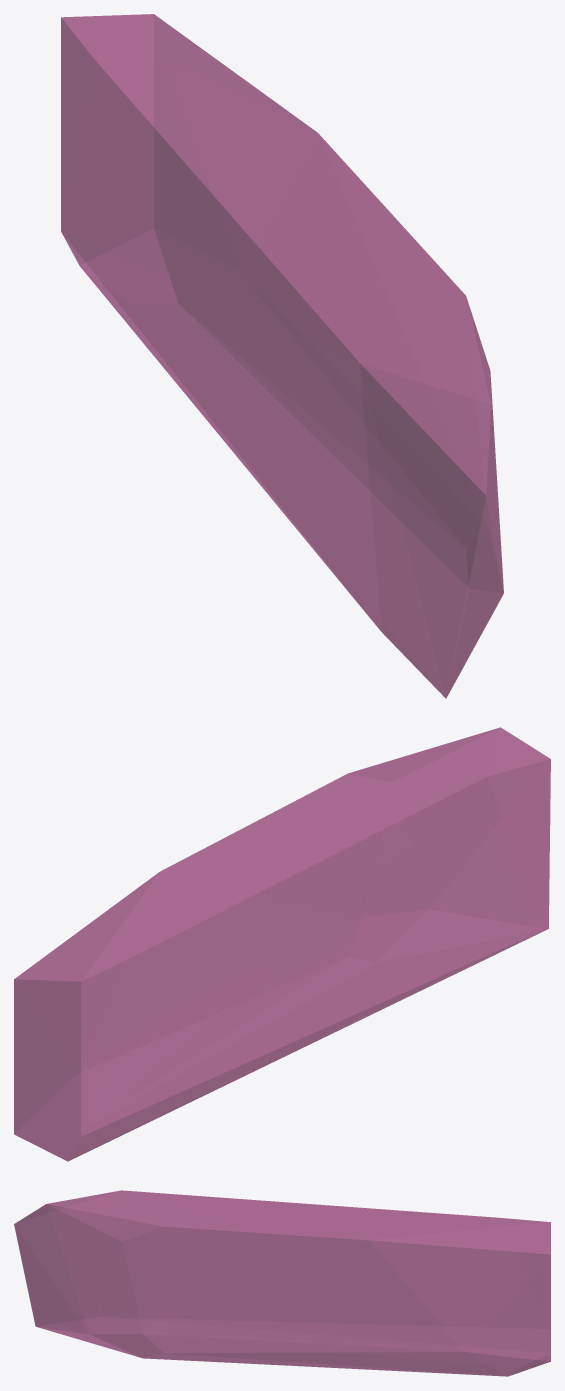
The picture shows the model from 3 angles, top to bottom: view 1: azimuth 30°, elevation 25°; view 2: azimuth 150°, elevation 25°; view 3: azimuth 270°, elevation 25°; orthographic projection. The views are drawn at different scales.
Parts seen in each view (by area): view 1: Shape_IndexedFaceSet.007_Shape_IndexedFaceSet.15620; view 2: Shape_IndexedFaceSet.007_Shape_IndexedFaceSet.15620; view 3: Shape_IndexedFaceSet.007_Shape_IndexedFaceSet.15620.
Boxes of the visible parts, left/top/right/bottom form: Shape_IndexedFaceSet.007_Shape_IndexedFaceSet.15620: left=61, top=14, right=503, bottom=698; Shape_IndexedFaceSet.007_Shape_IndexedFaceSet.15620: left=14, top=727, right=550, bottom=1161; Shape_IndexedFaceSet.007_Shape_IndexedFaceSet.15620: left=14, top=1190, right=550, bottom=1376.
Bounding box in the file's own units: 0.1085 × 0.1266 × 0.4522.
